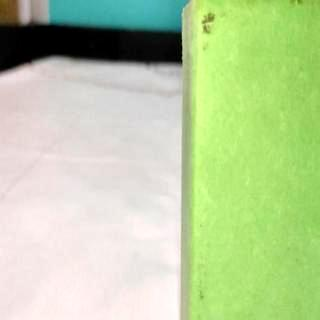greenbox: (178, 0, 320, 319)
